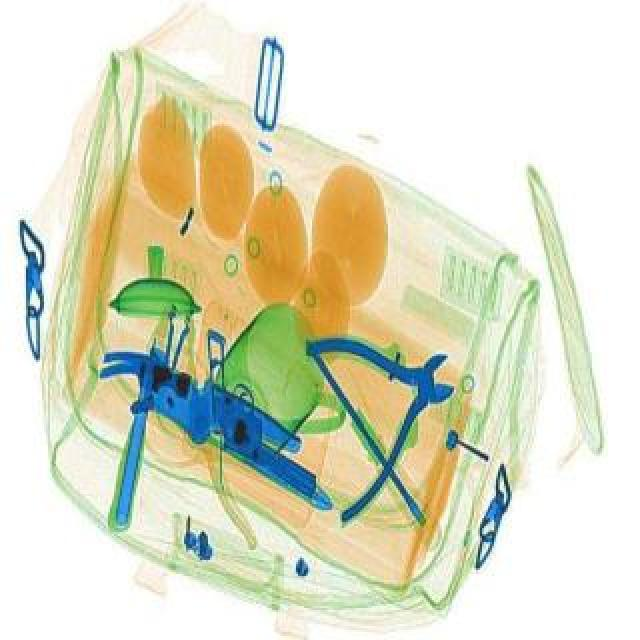gun: (150, 322, 346, 518)
wrench: (276, 298, 496, 522)
